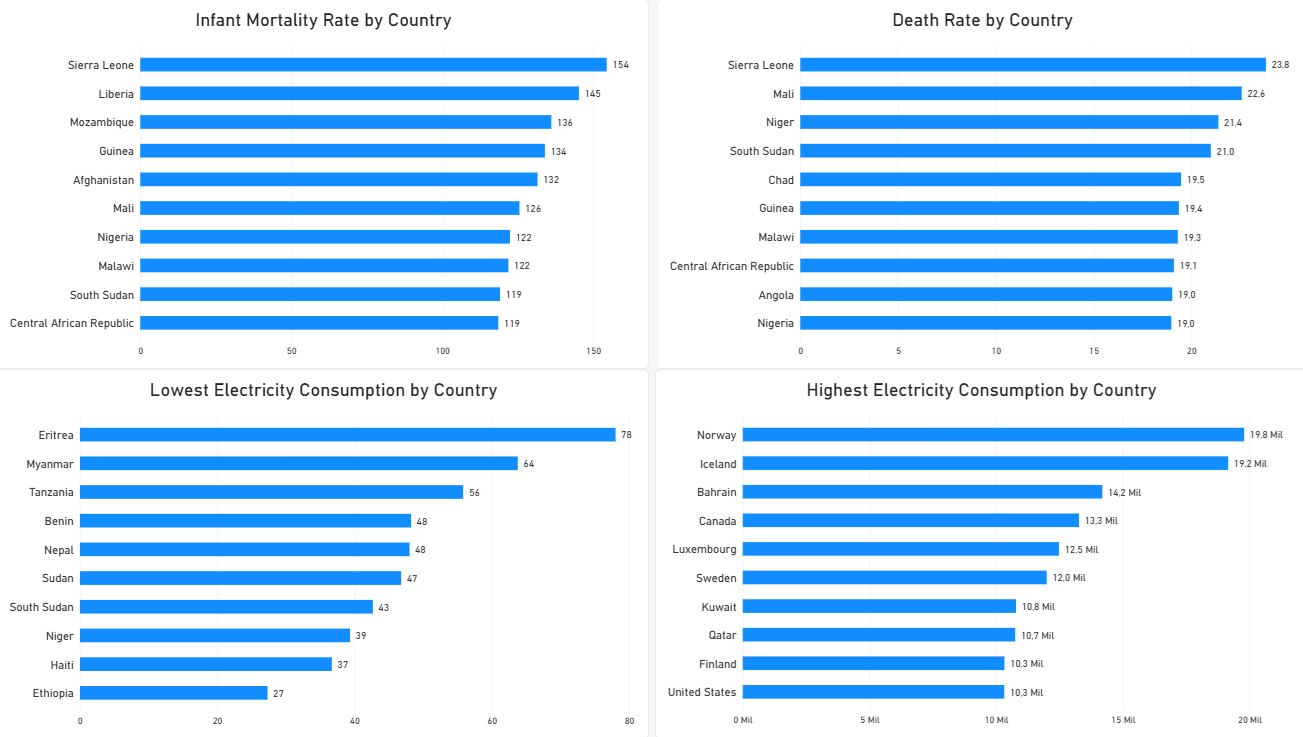

The dashboard page shown, as its layout file describes it:
{"tool":"powerbi","page":{"name":"Life Expectancy & Correlation Pt.2","canvas":[1920,1080],"ordinal":4},"visuals":[{"type":"barChart","title":"Infant Mortality Rate by Country","fields":{"Category":["Development Indicators.Country Name"],"Y":["Avg(Development Indicators.Infant mortality rate (per 1,000 live births))"]},"box":[9.3,0,951.5,540.1],"z":0},{"type":"barChart","title":"Death Rate by Country","fields":{"Category":["Development Indicators.Country Name"],"Y":["Avg(Development Indicators.Death rate, crude (per 1,000 people))"]},"box":[971.6,0,948.4,540.1],"z":1000},{"type":"barChart","title":"Lowest Electricity Consumption by Country","fields":{"Category":["Development Indicators.Country Name"],"Y":["Avg(Development Indicators.Electric power consumption (kWh per capita))"]},"box":[9.3,540.1,951.5,540.1],"z":2000},{"type":"barChart","title":"Highest Electricity Consumption by Country","fields":{"Category":["Development Indicators.Country Name"],"Y":["Avg(Development Indicators.Electric power consumption (kWh per capita))"]},"box":[968.5,540.1,951.5,538.6],"z":3000}]}

Visuals, with their boxes in screenshot pixels (x1, y1, x2, y2), scaled from the page's 1920x1080 canvas onto the 1303x737 screenshot:
"Infant Mortality Rate by Country" barChart: x1=6, y1=0, x2=652, y2=369
"Death Rate by Country" barChart: x1=659, y1=0, x2=1302, y2=369
"Lowest Electricity Consumption by Country" barChart: x1=6, y1=369, x2=652, y2=736
"Highest Electricity Consumption by Country" barChart: x1=657, y1=369, x2=1302, y2=736
